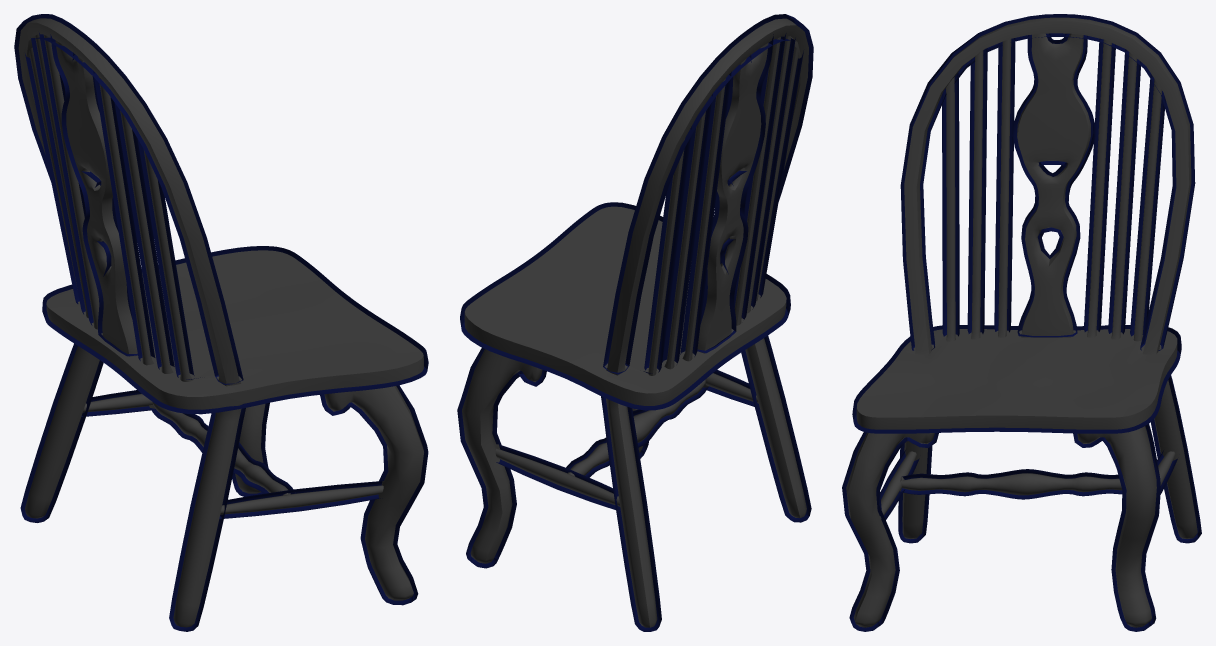
3 renders of one model, left to right at view 1: azimuth 30°, elevation 25°; view 2: azimuth 150°, elevation 25°; view 3: azimuth 270°, elevation 25°, orthographic. The views are drawn at different scales.
Visible parts, largest first — view 1: Chair_Dining; view 2: Chair_Dining; view 3: Chair_Dining.
Part boxes in pixels (bbox=[...]): Chair_Dining: bbox=[14, 14, 428, 631]; Chair_Dining: bbox=[457, 14, 813, 631]; Chair_Dining: bbox=[842, 14, 1201, 631].
Bounding box in the file's own units: 0.5326 × 1.05 × 0.6704.
